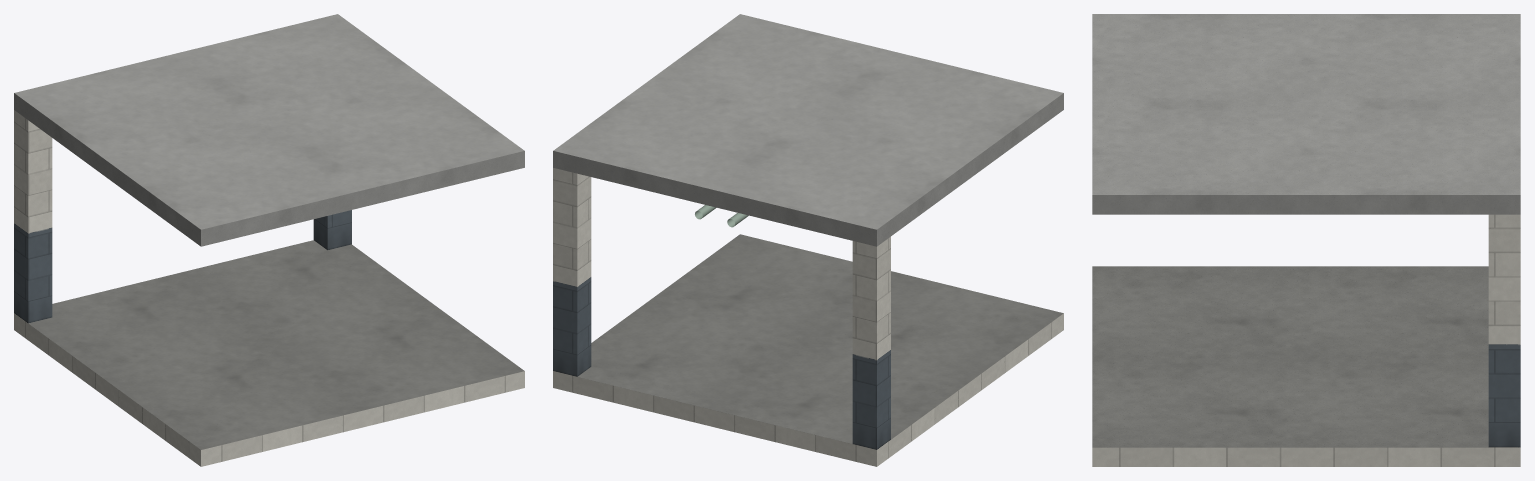
Rendered from Room_Basement_Opening.glb.
The picture shows the model from 3 angles, left to right: view 1: azimuth 30°, elevation 25°; view 2: azimuth 150°, elevation 25°; view 3: azimuth 270°, elevation 25°; orthographic projection. The views are drawn at different scales.
Visible parts, largest first — view 1: Room_Basement_Opening, Room_Basement_Opening_Ceiling; view 2: Room_Basement_Opening, Room_Basement_Opening_Ceiling; view 3: Room_Basement_Opening, Room_Basement_Opening_Ceiling.
Part boxes in pixels (bbox=[...]): Room_Basement_Opening: bbox=[14, 110, 524, 466]; Room_Basement_Opening_Ceiling: bbox=[14, 14, 524, 246]; Room_Basement_Opening: bbox=[553, 168, 1063, 466]; Room_Basement_Opening_Ceiling: bbox=[553, 14, 1063, 246]; Room_Basement_Opening: bbox=[1092, 214, 1520, 466]; Room_Basement_Opening_Ceiling: bbox=[1092, 14, 1520, 214].
Bounding box in the file's own units: 4 × 2.8 × 4.
6 materials, 3 textured.
